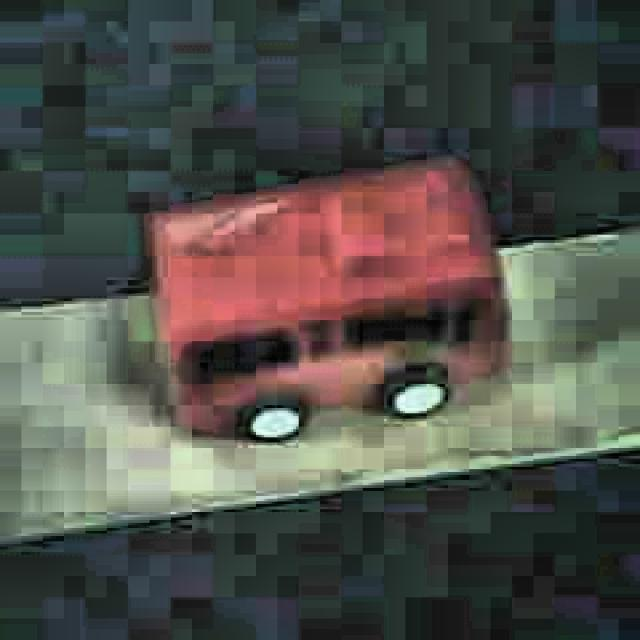bus: (153, 156, 508, 446)
